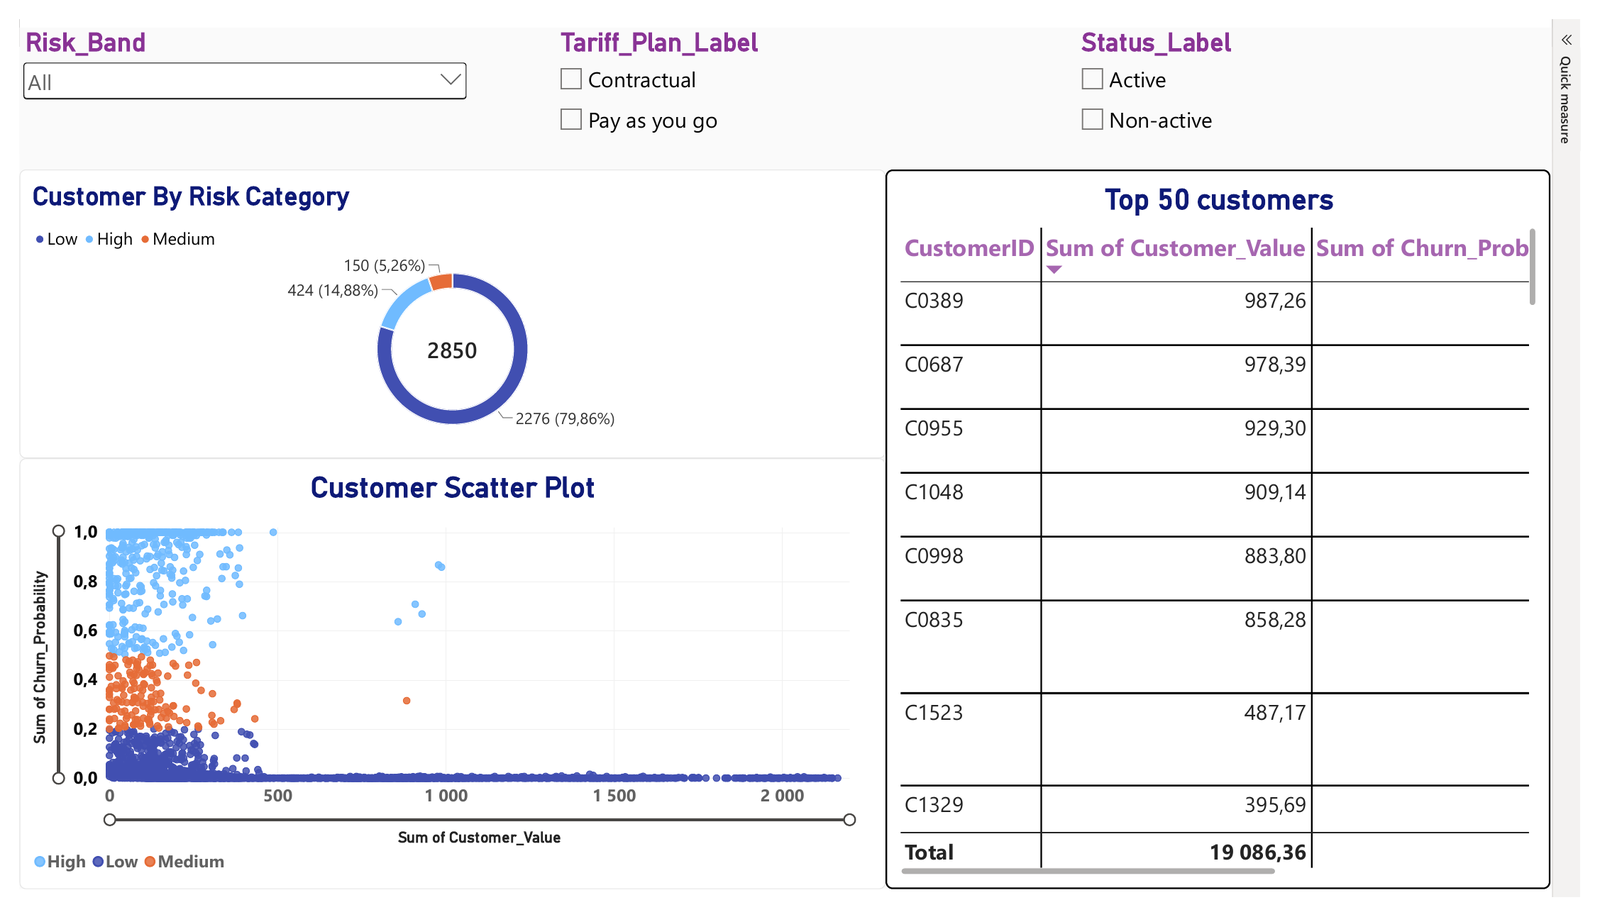

What the dashboard file says about the page in this screenshot:
{"tool":"powerbi","page":{"name":"Customer Risk","canvas":[1920,1080],"ordinal":1},"visuals":[{"type":"donutChart","title":"Customer By Risk Category","fields":{"Category":["churn_scored.Risk_Band"],"Y":["churn_scored.customers"]},"box":[0,177.5,1085,362.5],"z":0},{"type":"scatterChart","title":"Customer Scatter Plot","fields":{"Category":["churn_scored.CustomerID"],"Series":["churn_scored.Risk_Band"],"X":["Sum(churn_scored.Customer_Value)"],"Y":["Sum(churn_scored.Churn_Probability)"]},"box":[0,540,1085,540],"z":1000},{"type":"tableEx","title":"Top 50 customers","fields":{"Values":["churn_scored.CustomerID","Sum(churn_scored.Customer_Value)","Sum(churn_scored.Churn_Probability)","churn_scored.Value at Risk","churn_scored.Retention_Action"]},"box":[1085,177.5,832.5,902.5],"z":2000},{"type":"slicer","fields":{"Values":["churn_scored.Status_Label"]},"box":[1322.5,0,596,160],"z":2001},{"type":"slicer","fields":{"Values":["churn_scored.Tariff_Plan_Label"]},"box":[670,0,580,160],"z":2002},{"type":"slicer","fields":{"Values":["churn_scored.Risk_Band"]},"box":[0,0,565,125],"z":2003}]}

Visuals, with their boxes on the page's 1920x1080 design canvas (x1, y1, x2, y2). These are canvas units, not pixel positions in the 1600x917 screenshot, which may show the page scaled, cropped or inside an application window:
"Customer By Risk Category" donutChart: l=0, t=178, r=1085, b=540
"Customer Scatter Plot" scatterChart: l=0, t=540, r=1085, b=1080
"Top 50 customers" tableEx: l=1085, t=178, r=1918, b=1080
slicer - churn_scored.Status_Label: l=1322, t=0, r=1918, b=160
slicer - churn_scored.Tariff_Plan_Label: l=670, t=0, r=1250, b=160
slicer - churn_scored.Risk_Band: l=0, t=0, r=565, b=125
